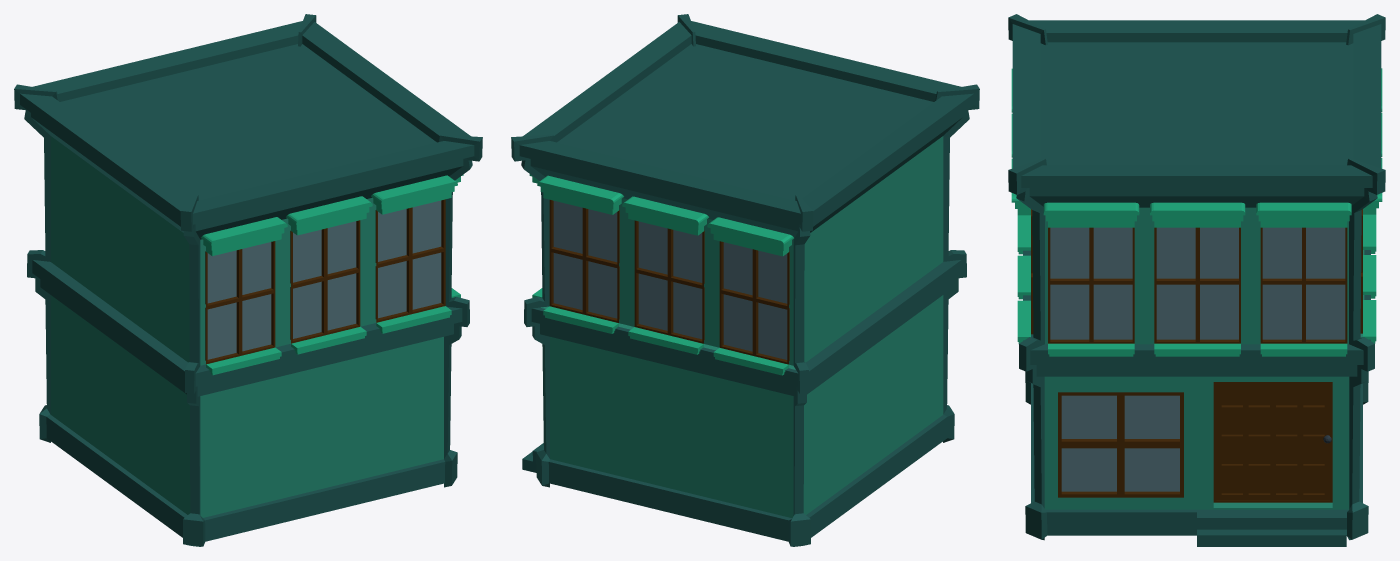
Rendered from 2-Green.fbx.
3 views of the same model, side by side, from view 1: azimuth 30°, elevation 25°; view 2: azimuth 150°, elevation 25°; view 3: azimuth 270°, elevation 25° (orthographic). The views are drawn at different scales.
Parts seen in each view (by area): view 1: Cube.013; view 2: Cube.013; view 3: Cube.013.
Part boxes in pixels (x1,y1,x2,y2): Cube.013: (14, 14, 482, 546); Cube.013: (511, 14, 979, 546); Cube.013: (1008, 14, 1385, 546).
Size of the model in its own units: 1421 by 1435 by 1574.
